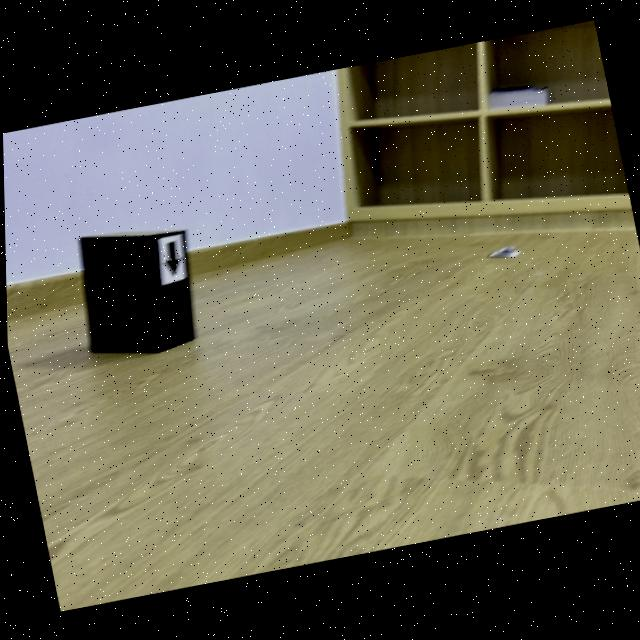DOWN: (162, 242, 179, 275)
